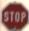Stop sign: (0, 0, 28, 30)
